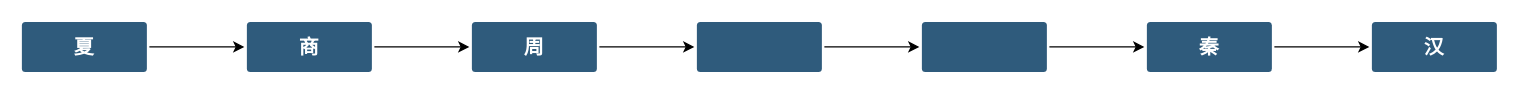
Image size: 1518x93. Some labels were removed from this diagram. The shapes that lost their labels are listed below. From the top down, each one's centre as x and y in pixels, then its label:
point 758,46: 春秋
point 983,46: 战国
